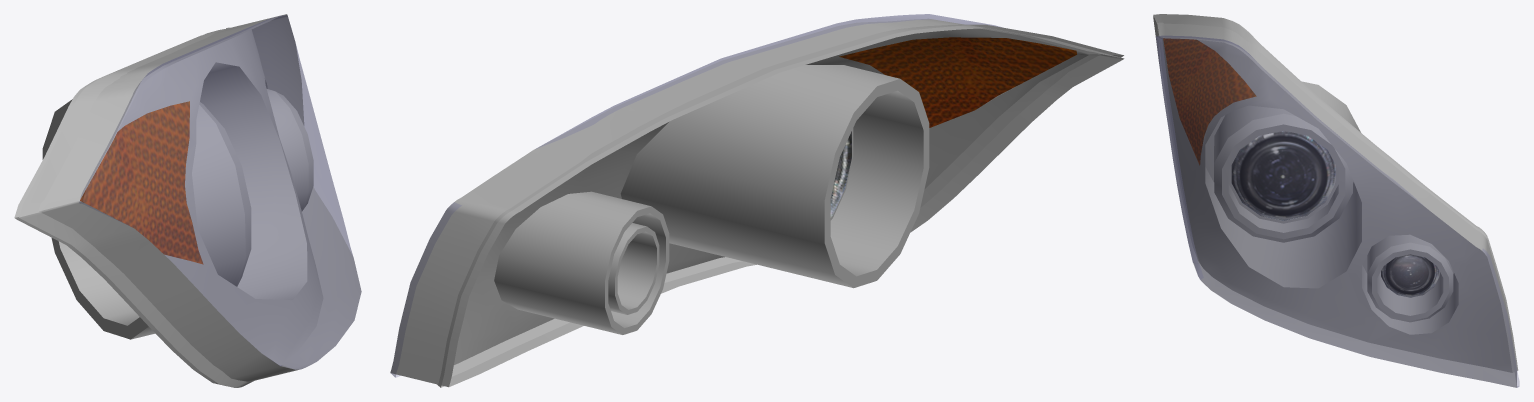
The picture shows the model from 3 angles, left to right: view 1: azimuth 30°, elevation 25°; view 2: azimuth 150°, elevation 25°; view 3: azimuth 270°, elevation 25°; orthographic projection. The views are drawn at different scales.
Parts seen in each view (by area): view 1: U266_061B_R_U266_061B_R_5_DaS, U266_061B_R_U266_061B_R_4_DTaSI, U266_061B_R_U266_061B_R_3_N; view 2: U266_061B_R_U266_061B_R_5_DaS, U266_061B_R_U266_061B_R_3_N, U266_061B_R_U266_061B_R_4_DTaSI, U266_061B_R_1_N_U266_061B_R; view 3: U266_061B_R_U266_061B_R_4_DTaSI, U266_061B_R_U266_061B_R_5_DaS, U266_061B_R_1_N_U266_061B_R, U266_061B_R_U266_061B_R_3_N, U266_061B_R_U266_061B_R_2_N.
Boxes of the visible parts, <box> form: U266_061B_R_U266_061B_R_5_DaS: <box>14,14,361,387</box>; U266_061B_R_U266_061B_R_4_DTaSI: <box>79,15,361,369</box>; U266_061B_R_U266_061B_R_3_N: <box>80,101,203,264</box>; U266_061B_R_U266_061B_R_5_DaS: <box>390,18,1124,387</box>; U266_061B_R_U266_061B_R_3_N: <box>839,37,1076,127</box>; U266_061B_R_U266_061B_R_4_DTaSI: <box>390,14,1002,377</box>; U266_061B_R_1_N_U266_061B_R: <box>830,131,851,217</box>; U266_061B_R_U266_061B_R_4_DTaSI: <box>1156,35,1519,387</box>; U266_061B_R_U266_061B_R_5_DaS: <box>1153,14,1518,387</box>; U266_061B_R_1_N_U266_061B_R: <box>1231,131,1335,220</box>; U266_061B_R_U266_061B_R_3_N: <box>1163,38,1256,165</box>; U266_061B_R_U266_061B_R_2_N: <box>1381,254,1439,297</box>.
Bounding box in the file's own units: 44.4 × 26.15 × 38.22.
